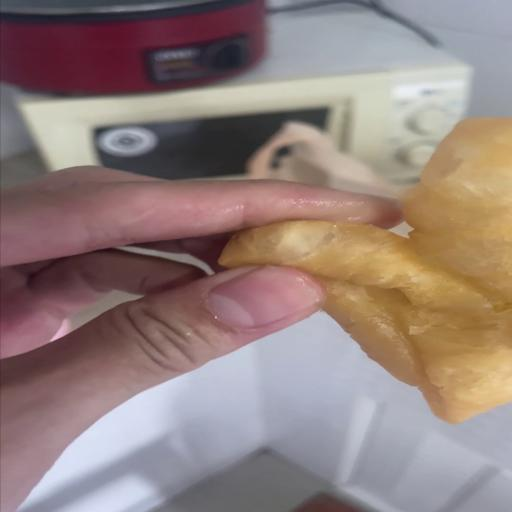street_golden_defect: (219, 120, 512, 422)
